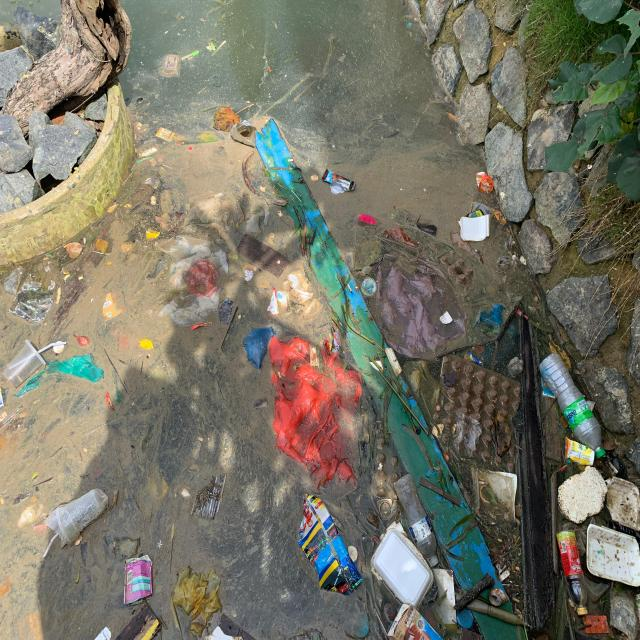Botol Plastik: (539, 352, 608, 459), (393, 473, 442, 569), (556, 529, 592, 619)
Bungkus Makanan: (298, 492, 364, 599), (372, 528, 435, 610), (43, 489, 111, 548), (586, 522, 640, 589), (4, 338, 58, 391), (123, 555, 155, 606), (564, 438, 598, 471), (459, 214, 492, 244), (323, 169, 358, 197), (156, 125, 185, 148), (162, 54, 184, 81), (476, 170, 496, 196), (269, 287, 283, 319), (331, 325, 345, 355), (361, 277, 379, 300)
Kantong Plastik: (270, 335, 364, 488), (156, 233, 229, 328), (171, 568, 224, 640), (45, 351, 107, 386), (244, 323, 277, 372)
